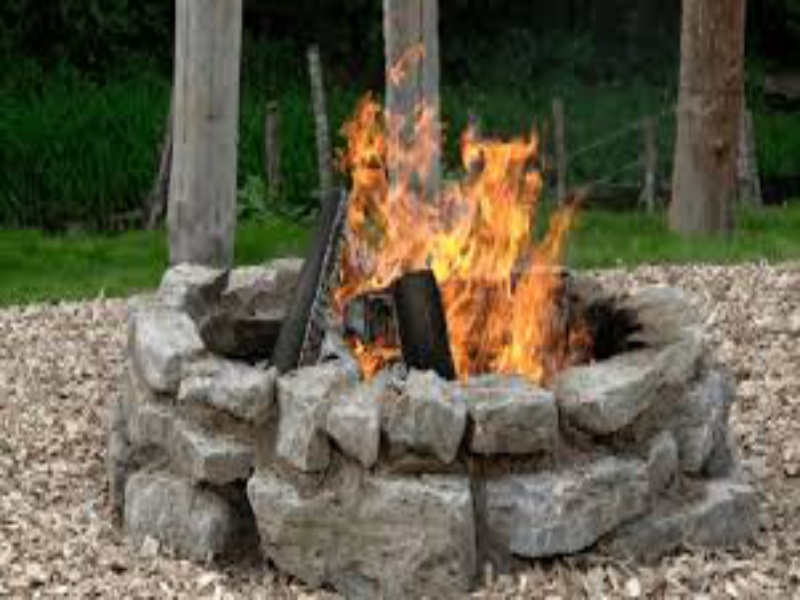fire: (341, 46, 594, 372)
